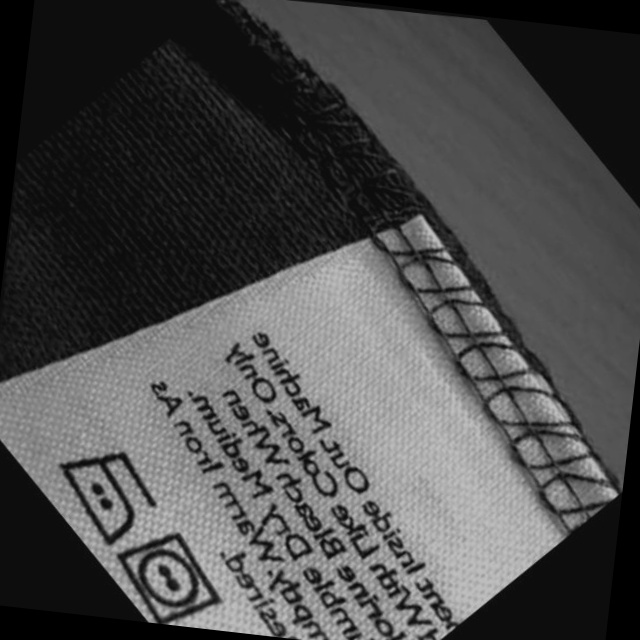iron_medium: (45, 443, 161, 547)
tumble_dry_medium: (107, 527, 226, 628)
